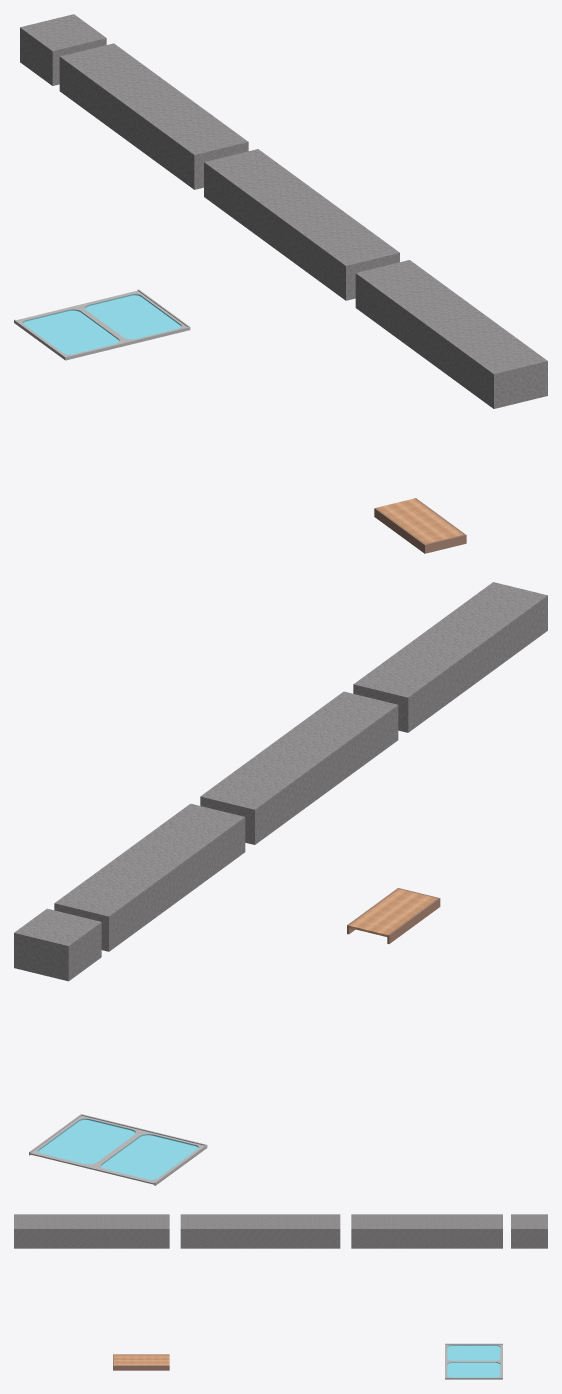
The picture shows the model from 3 angles, top to bottom: view 1: azimuth 30°, elevation 25°; view 2: azimuth 150°, elevation 25°; view 3: azimuth 270°, elevation 25°; orthographic projection. The views are drawn at different scales.
Visible parts, largest first — view 1: 0_0_2_2_1_2_1; view 2: 0_0_2_2_1_2_1; view 3: 0_0_2_2_1_2_1.
Boxes of the visible parts, x1,y1,x2,y2 form: 0_0_2_2_1_2_1: (14,14,547,553); 0_0_2_2_1_2_1: (14,582,547,1185); 0_0_2_2_1_2_1: (14,1214,547,1379).
Size of the model in its own units: 3 by 5.85 by 19.71.
Materials: 7 (4 with a texture image).
